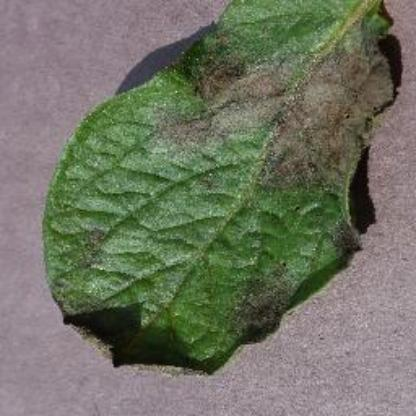Late-Blight: (37, 1, 405, 381)
